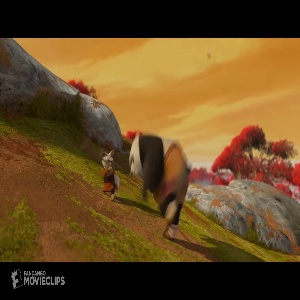po: (126, 131, 191, 240)
shifu: (98, 146, 121, 203)
